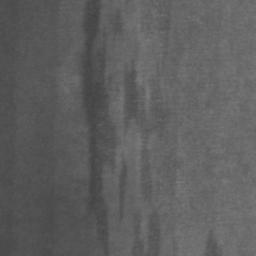Inclusion: (84, 0, 116, 255), (132, 211, 161, 256), (124, 67, 141, 123), (205, 230, 221, 256)
